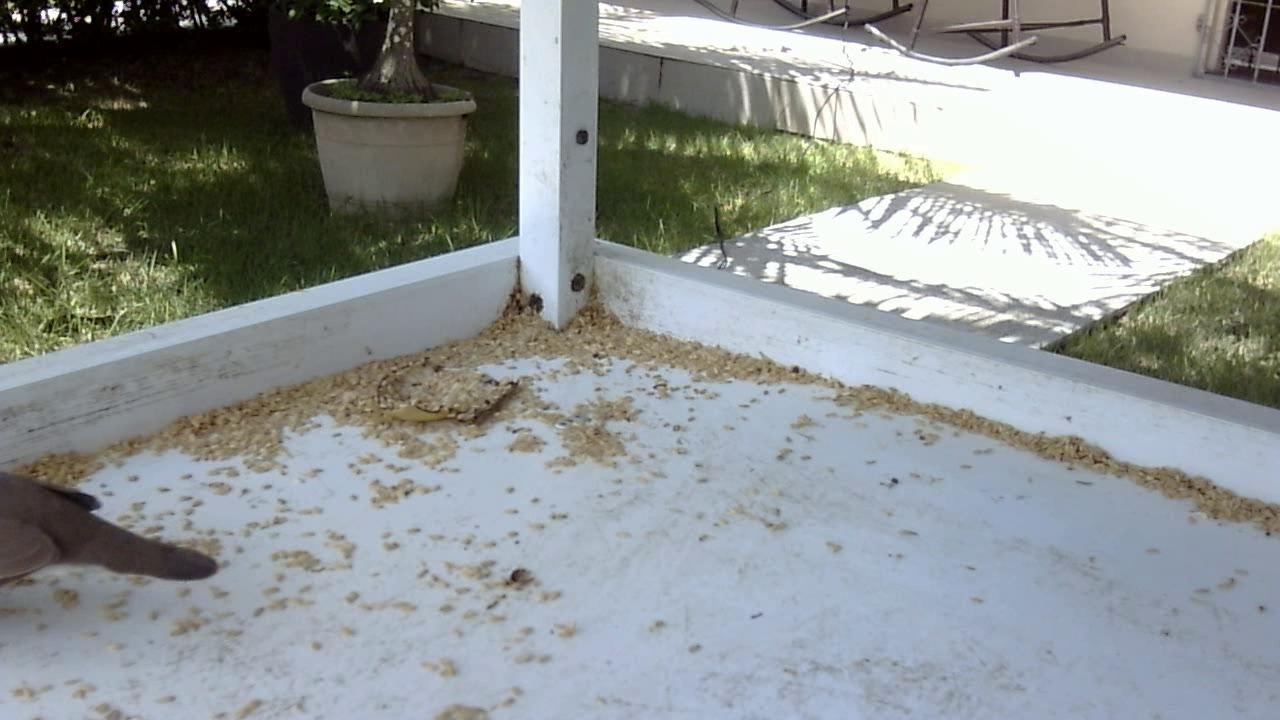rolinha: (1, 456, 225, 609)
